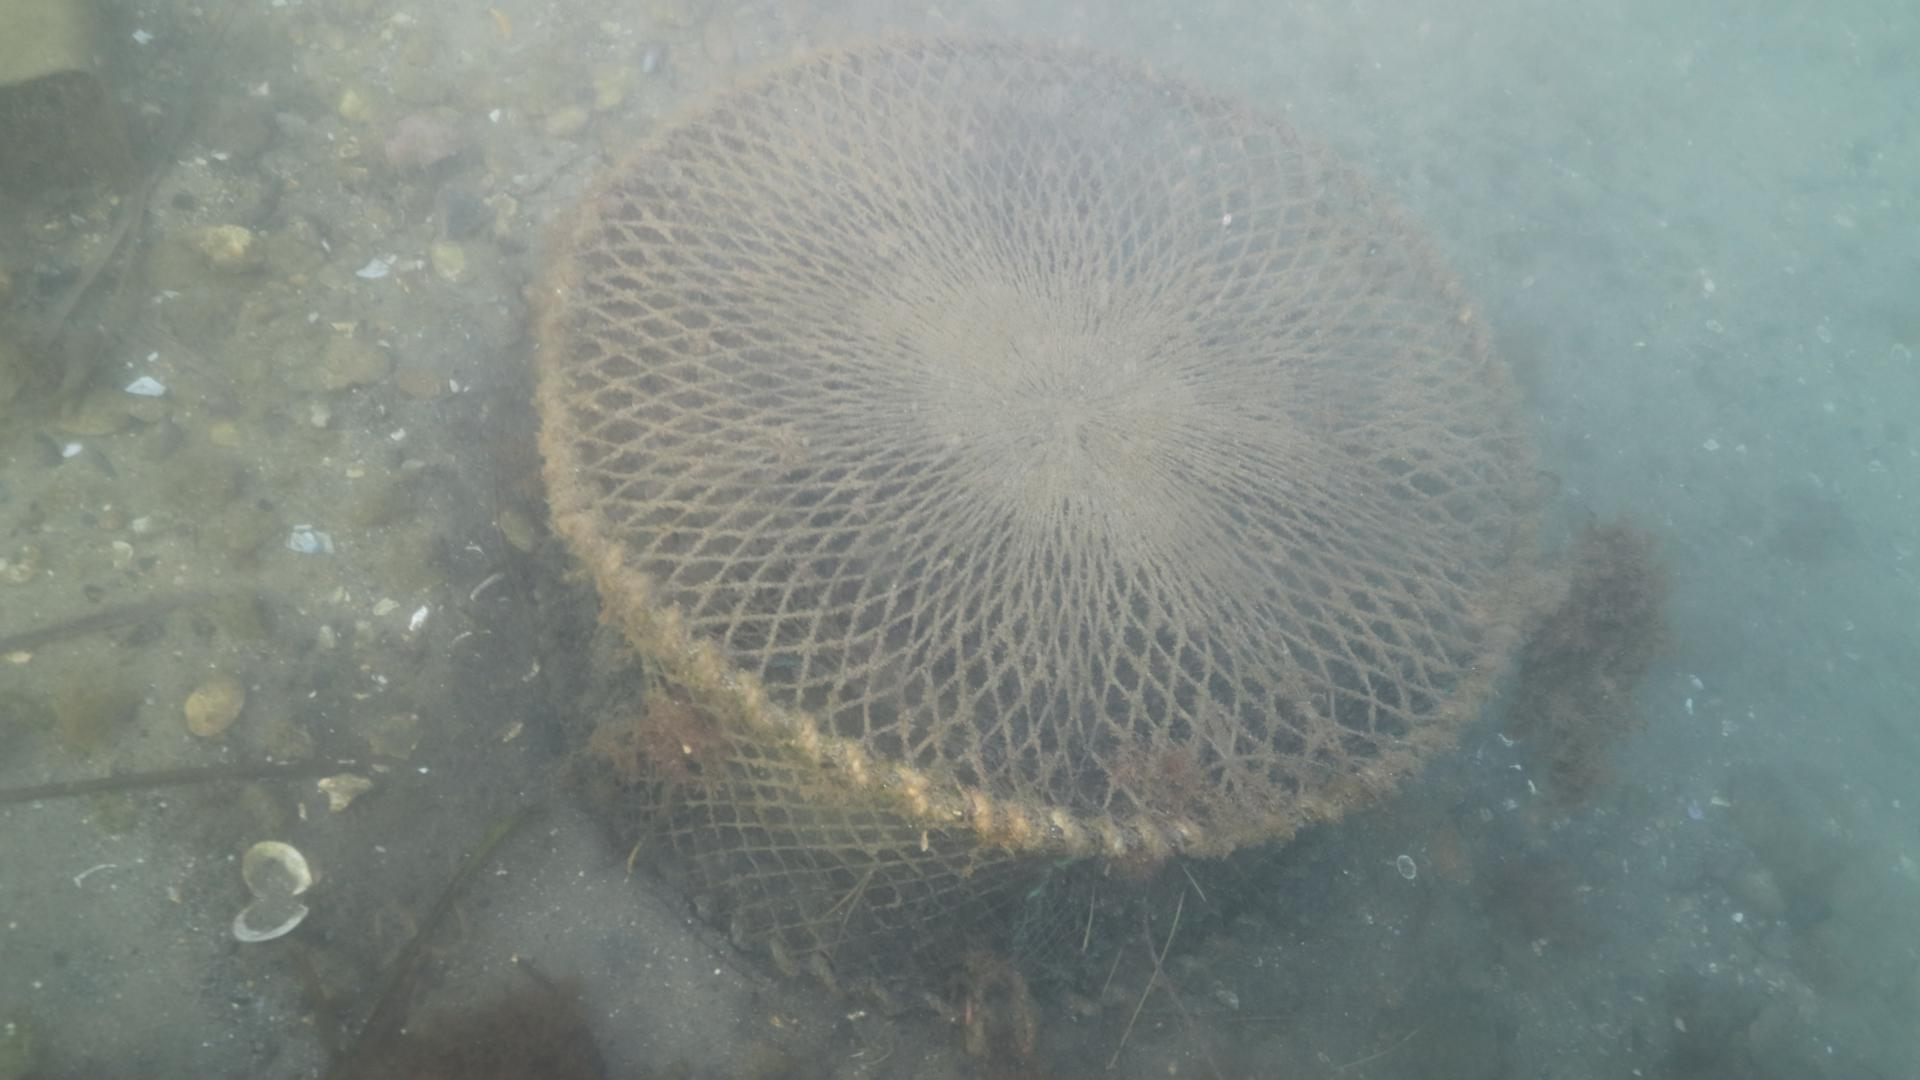circular fish trap: (535, 33, 1545, 1023)
